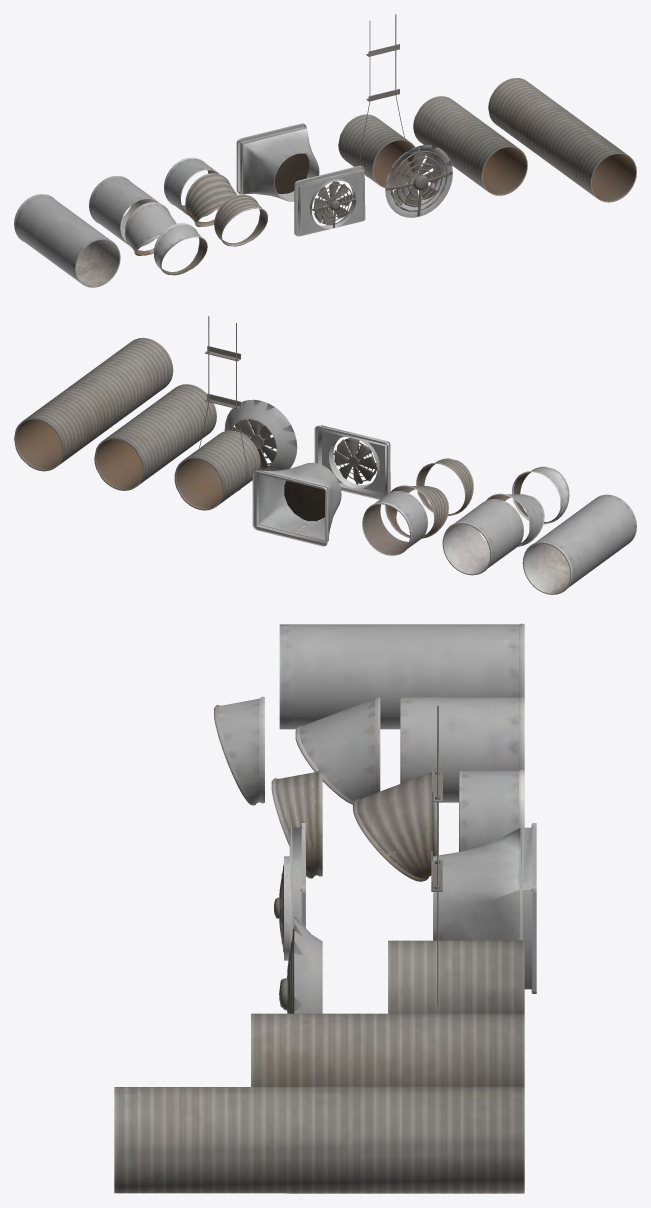
File: modular_airduct_circular_01.glb
3 views of the same model, one above another, from view 1: azimuth 30°, elevation 25°; view 2: azimuth 150°, elevation 25°; view 3: azimuth 270°, elevation 25° (orthographic). The views are drawn at different scales.
Visible parts, largest first — view 1: modular_airduct_rectangular_vent_fan; view 2: modular_airduct_rectangular_vent_fan; view 3: modular_airduct_rectangular_vent_fan.
Boxes of the visible parts, box(x1,y1,x2,y2) form: modular_airduct_rectangular_vent_fan: box(14, 14, 636, 287); modular_airduct_rectangular_vent_fan: box(14, 316, 636, 594); modular_airduct_rectangular_vent_fan: box(114, 623, 536, 1193).
Bounding box in the file's own units: 4.17 × 1.32 × 1.46.
Materials: 1 (1 with a texture image).
